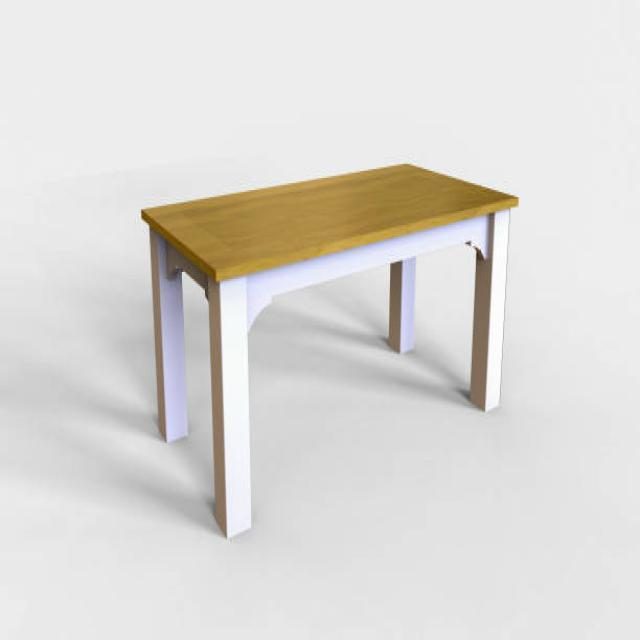table: (140, 160, 519, 539)
